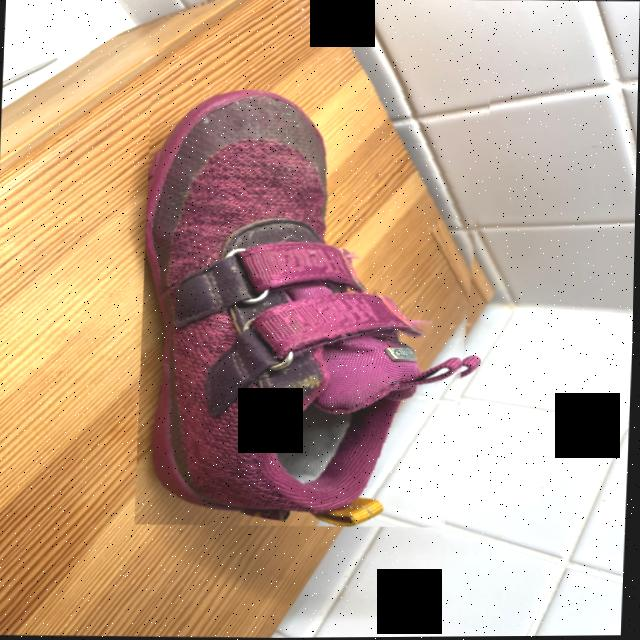shoe: (136, 83, 491, 530)
